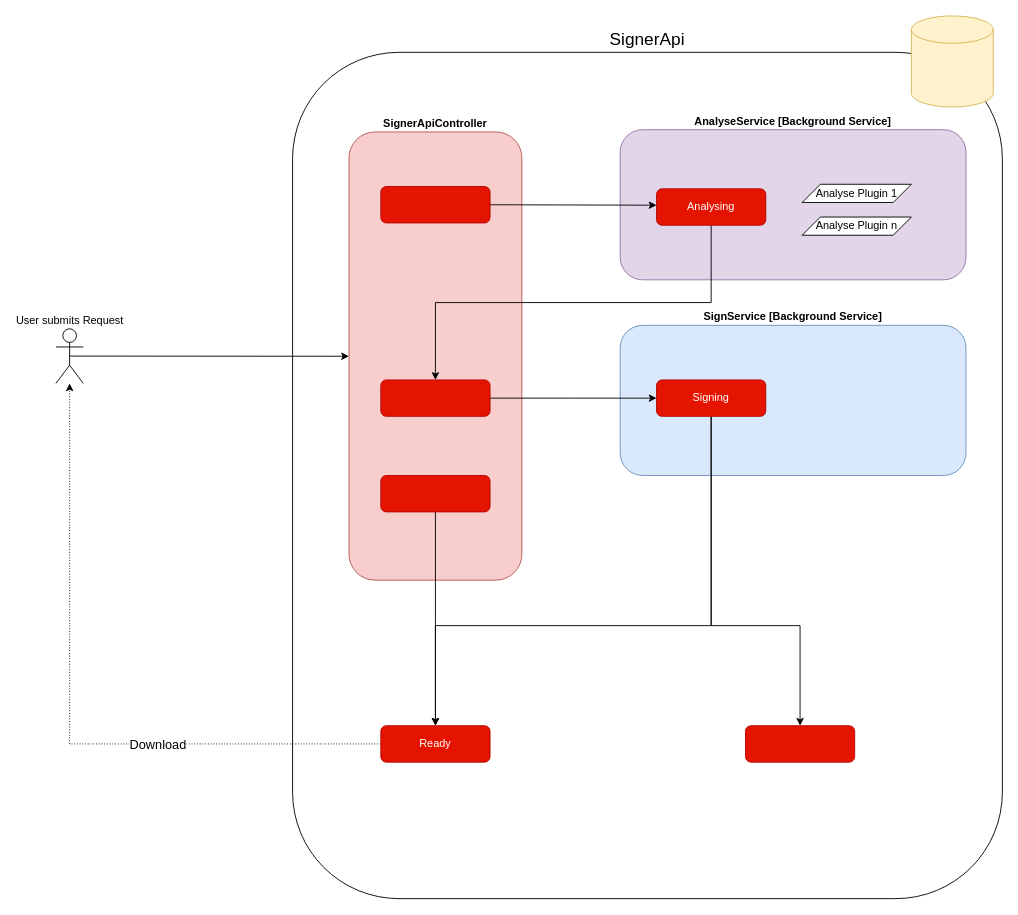
The diagram is 1018 pixels wide and 915 high, and some of its shapes have lost their labels. The shapes that lost their labels are listed below. From the top down, each one's centre as x and y in pixels, then its label:
the point at 951,61: API Activity
the point at 435,204: Queued for Analysis
the point at 435,397: Queued for Signing
the point at 435,493: Verifying
the point at 800,743: Error
